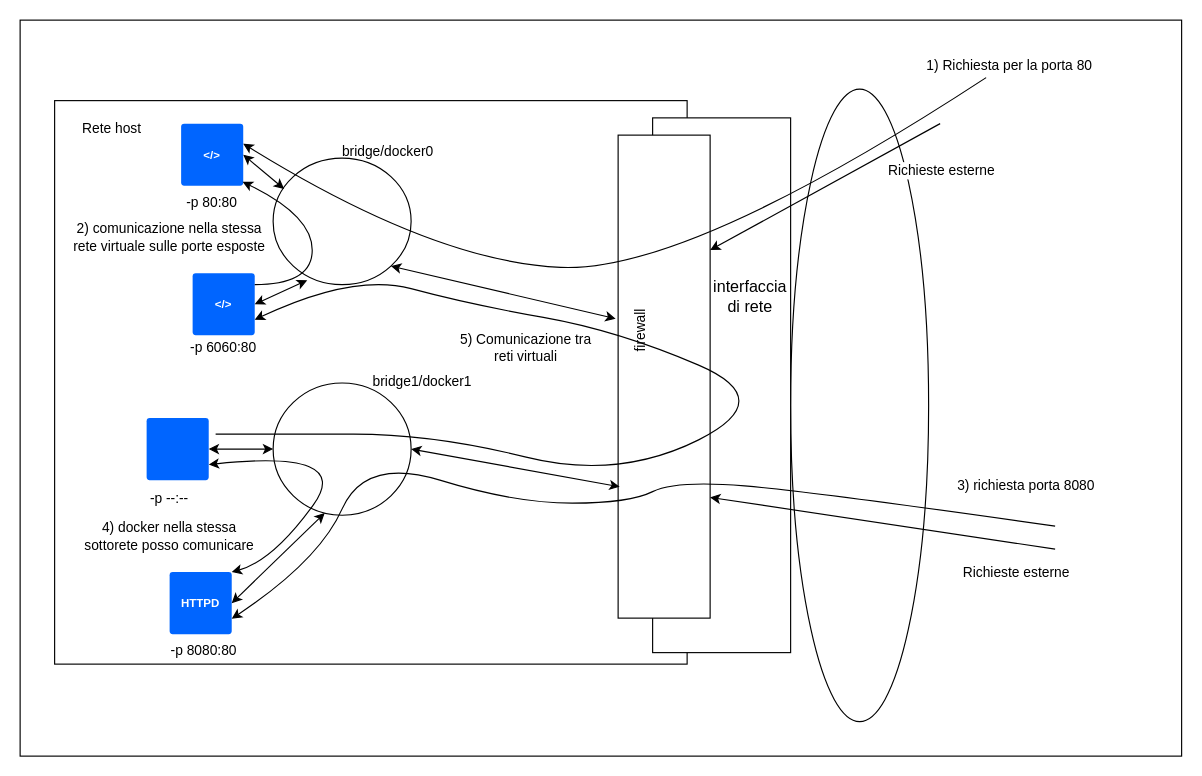
This 1202x776 diagram has some shape labels left out. Each missing label, with the centre of its shape:
MySQL: the point at 177,448
NAT: the point at 859,405
